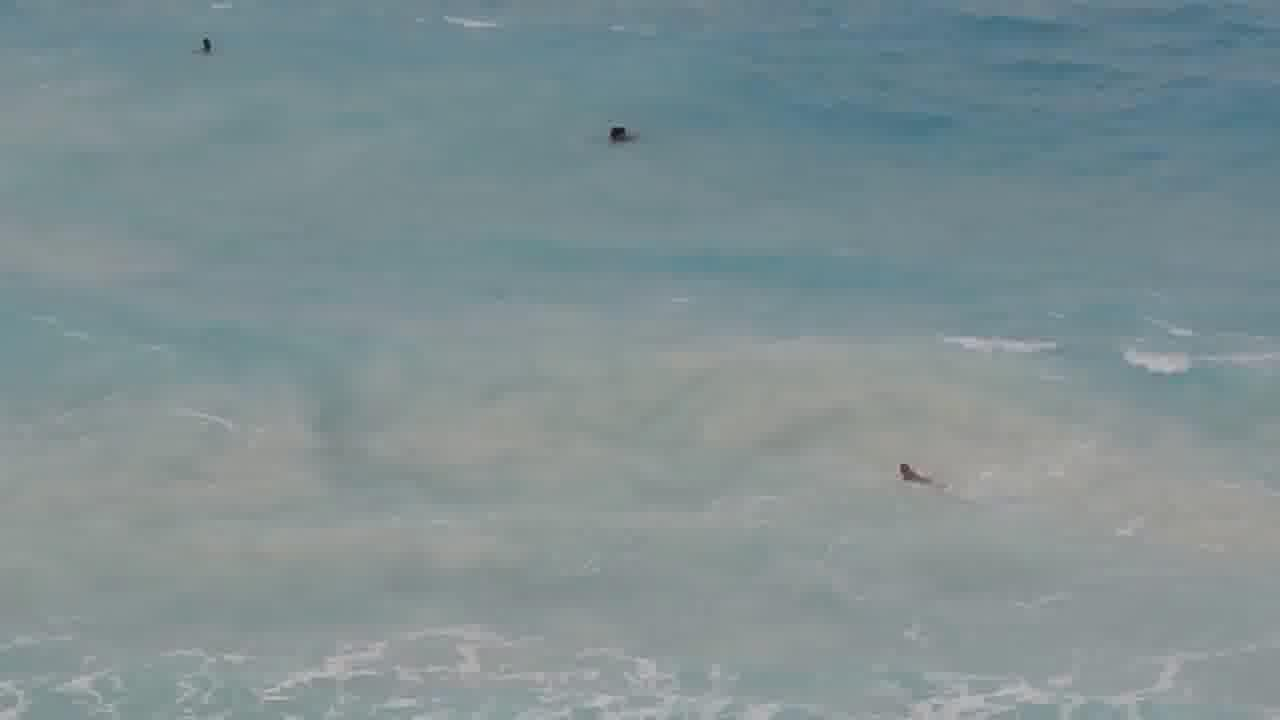swimmer: (597, 110, 650, 151), (889, 451, 943, 488), (191, 31, 225, 61)
